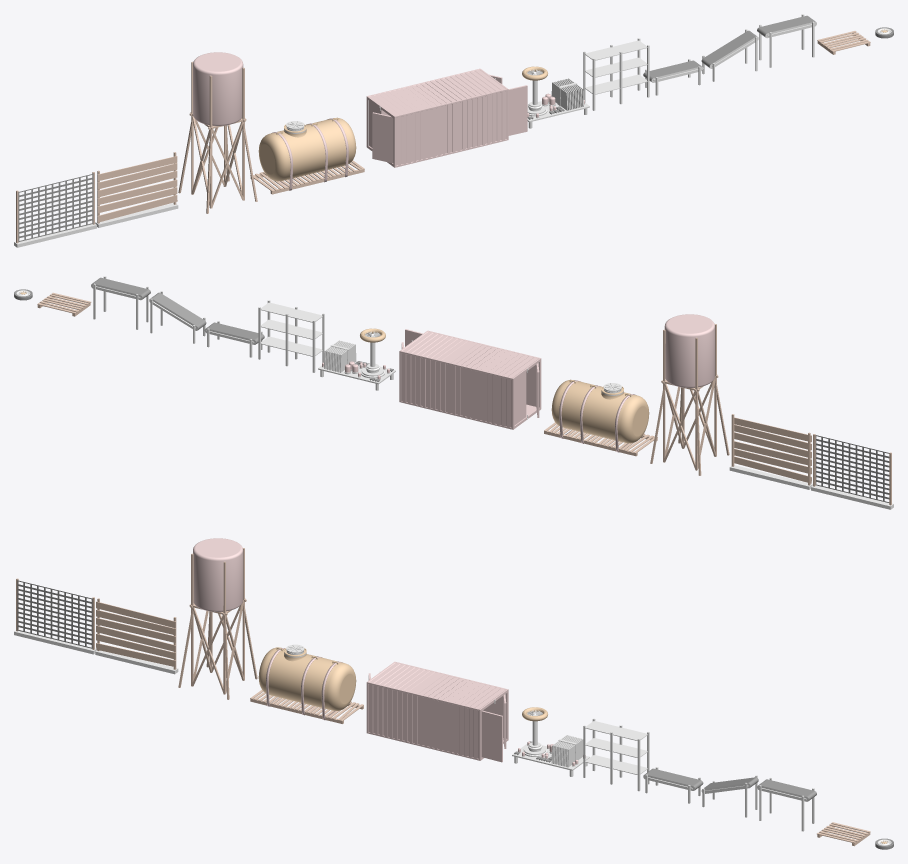
File: level_assets_b.fbx
3 renders of one model, top to bottom at view 1: azimuth 30°, elevation 25°; view 2: azimuth 150°, elevation 25°; view 3: azimuth 330°, elevation 25°, orthographic.
Visible parts, largest first — view 1: container, silo, tank_pallets, fence_tall_2, fence_tall_1, shelves, tesla_coil, conv_belt_risen, conv_belt_tilt, conv_belt_level, pallet; view 2: container, silo, tank_pallets, fence_tall_2, fence_tall_1, shelves, tesla_coil, conv_belt_risen, conv_belt_tilt, conv_belt_level, pallet; view 3: container, silo, tank_pallets, fence_tall_2, fence_tall_1, shelves, tesla_coil, conv_belt_risen, conv_belt_level, conv_belt_tilt, pallet.
Boxes of the visible parts, x1=… form: container: x1=366, y1=68, x2=527, y2=167; silo: x1=178, y1=52, x2=257, y2=213; tank_pallets: x1=250, y1=117, x2=364, y2=194; fence_tall_2: x1=95, y1=152, x2=178, y2=227; fence_tall_1: x1=14, y1=172, x2=96, y2=247; shelves: x1=583, y1=38, x2=649, y2=110; tesla_coil: x1=522, y1=66, x2=589, y2=128; conv_belt_risen: x1=757, y1=14, x2=816, y2=67; conv_belt_tilt: x1=701, y1=29, x2=758, y2=81; conv_belt_level: x1=643, y1=59, x2=703, y2=95; pallet: x1=817, y1=31, x2=870, y2=54; container: x1=399, y1=329, x2=541, y2=429; silo: x1=650, y1=314, x2=729, y2=475; tank_pallets: x1=544, y1=379, x2=657, y2=456; fence_tall_2: x1=729, y1=414, x2=812, y2=489; fence_tall_1: x1=811, y1=434, x2=893, y2=509; shelves: x1=258, y1=300, x2=324, y2=372; tesla_coil: x1=318, y1=328, x2=395, y2=390; conv_belt_risen: x1=91, y1=276, x2=150, y2=329; conv_belt_tilt: x1=149, y1=291, x2=206, y2=343; conv_belt_level: x1=204, y1=321, x2=264, y2=357; pallet: x1=37, y1=292, x2=91, y2=316; container: x1=366, y1=661, x2=508, y2=762; silo: x1=178, y1=538, x2=257, y2=699; tank_pallets: x1=250, y1=644, x2=363, y2=723; fence_tall_2: x1=95, y1=598, x2=178, y2=674; fence_tall_1: x1=14, y1=578, x2=96, y2=654; shelves: x1=583, y1=718, x2=649, y2=791; tesla_coil: x1=512, y1=707, x2=589, y2=776; conv_belt_risen: x1=757, y1=777, x2=816, y2=831; conv_belt_level: x1=643, y1=767, x2=703, y2=803; conv_belt_tilt: x1=701, y1=775, x2=758, y2=817; pallet: x1=817, y1=822, x2=870, y2=846.
Size of the model in its own units: 108 by 15.93 by 6.21.
